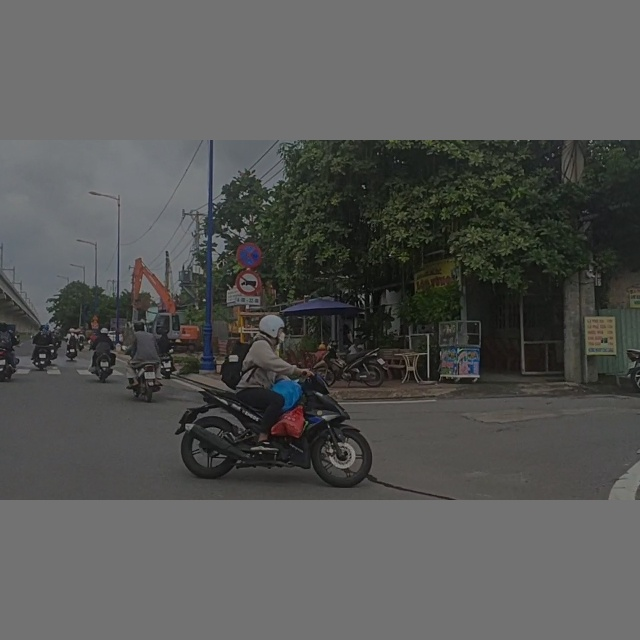B.8a: (237, 271, 261, 296)
P.130: (235, 243, 263, 269)
